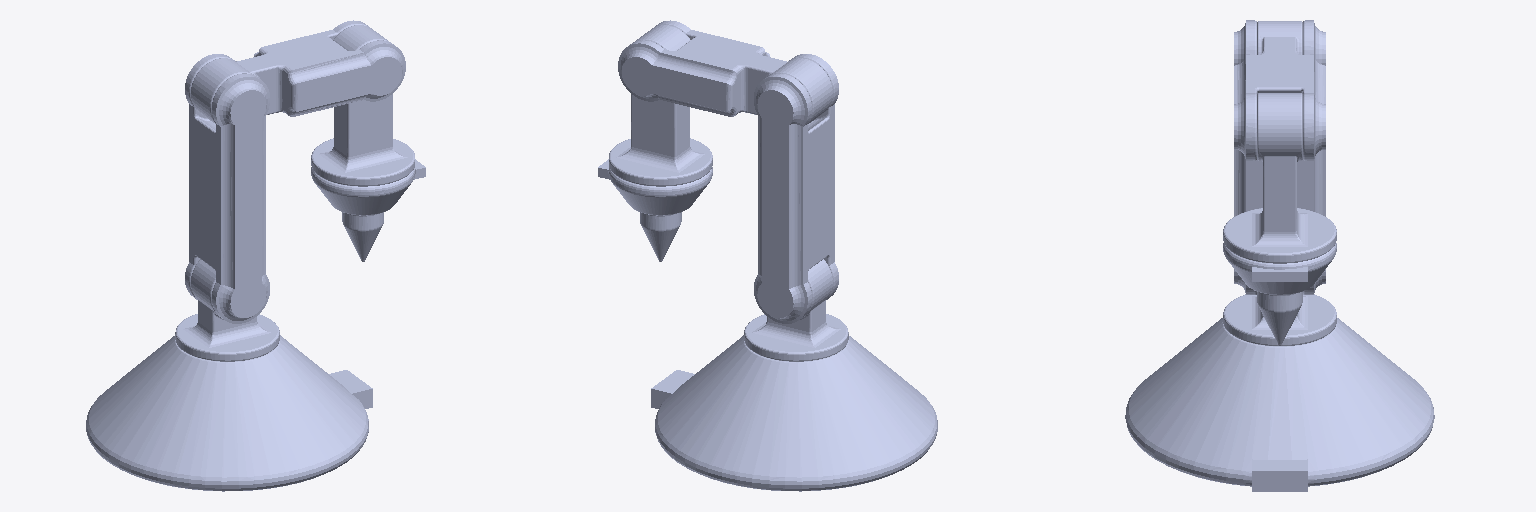
URDF robot description (robotic_arm):
<?xml version="1.0" encoding="utf-8"?>
<!-- This URDF was automatically created by SolidWorks to URDF Exporter! Originally created by [author] ([email redacted]) 
     Commit Version: 1.6.0-4-g7f85cfe  Build Version: 1.6.7995.38578
     For more information, please see http://wiki.ros.org/sw_urdf_exporter -->
<robot
  name="robotic_arm">
  <link
    name="base_link">
    <inertial>
      <origin
        xyz="0.00061888 -1.9568E-13 0.034312"
        rpy="0 0 0" />
      <mass
        value="3.2112" />
      <inertia
        ixx="0.012744"
        ixy="-4.897E-13"
        ixz="3.6048E-05"
        iyy="0.013016"
        iyz="1.7223E-12"
        izz="0.021902" />
    </inertial>
    <visual>
      <origin
        xyz="0 0 0"
        rpy="0 0 0" />
      <geometry>
        <mesh
          filename="package://robotic_arm/meshes/base_link.STL" />
      </geometry>
      <material
        name="">
        <color
          rgba="0.79216 0.81961 0.93333 1" />
      </material>
    </visual>
    <collision>
      <origin
        xyz="0 0 0"
        rpy="0 0 0" />
      <geometry>
        <mesh
          filename="package://robotic_arm/meshes/base_link.STL" />
      </geometry>
    </collision>
  </link>
  <link
    name="link_1">
    <inertial>
      <origin
        xyz="-4.7391E-09 -5.6065E-09 0.013415"
        rpy="0 0 0" />
      <mass
        value="0.30016" />
      <inertia
        ixx="0.00046088"
        ixy="-7.4477E-14"
        ixz="1.4091E-11"
        iyy="0.0004801"
        iyz="-1.2254E-11"
        izz="0.00017606" />
    </inertial>
    <visual>
      <origin
        xyz="0 0 0"
        rpy="0 0 0" />
      <geometry>
        <mesh
          filename="package://robotic_arm/meshes/link_1.STL" />
      </geometry>
      <material
        name="">
        <color
          rgba="0.79216 0.81961 0.93333 1" />
      </material>
    </visual>
    <collision>
      <origin
        xyz="0 0 0"
        rpy="0 0 0" />
      <geometry>
        <mesh
          filename="package://robotic_arm/meshes/link_1.STL" />
      </geometry>
    </collision>
  </link>
  <joint
    name="joint_1"
    type="revolute">
    <origin
      xyz="0 0 0.099414"
      rpy="0 0 0" />
    <parent
      link="base_link" />
    <child
      link="link_1" />
    <axis
      xyz="0 0 1" />
    <limit
      lower="0"
      upper="0"
      effort="0"
      velocity="0" />
  </joint>
  <link
    name="link_2">
    <inertial>
      <origin
        xyz="-2.7756E-17 -0.019261 0.1"
        rpy="0 0 0" />
      <mass
        value="0.76179" />
      <inertia
        ixx="0.0036986"
        ixy="-1.5693E-19"
        ixz="3.0224E-11"
        iyy="0.0034208"
        iyz="-7.9616E-20"
        izz="0.00055587" />
    </inertial>
    <visual>
      <origin
        xyz="0 0 0"
        rpy="0 0 0" />
      <geometry>
        <mesh
          filename="package://robotic_arm/meshes/link_2.STL" />
      </geometry>
      <material
        name="">
        <color
          rgba="0.79216 0.81961 0.93333 1" />
      </material>
    </visual>
    <collision>
      <origin
        xyz="0 0 0"
        rpy="0 0 0" />
      <geometry>
        <mesh
          filename="package://robotic_arm/meshes/link_2.STL" />
      </geometry>
    </collision>
  </link>
  <joint
    name="joint_2"
    type="revolute">
    <origin
      xyz="0 0.019261 0.060586"
      rpy="0 0 0" />
    <parent
      link="link_1" />
    <child
      link="link_2" />
    <axis
      xyz="0 1 0" />
    <limit
      lower="0"
      upper="0"
      effort="0"
      velocity="0" />
  </joint>
  <link
    name="link_3">
    <inertial>
      <origin
        xyz="0.082956 -0.022 -5.9351E-09"
        rpy="0 0 0" />
      <mass
        value="0.50081" />
      <inertia
        ixx="0.00032297"
        ixy="-1.9908E-10"
        ixz="-1.4119E-10"
        iyy="0.0014405"
        iyz="-2.8627E-10"
        izz="0.0015604" />
    </inertial>
    <visual>
      <origin
        xyz="0 0 0"
        rpy="0 0 0" />
      <geometry>
        <mesh
          filename="package://robotic_arm/meshes/link_3.STL" />
      </geometry>
      <material
        name="">
        <color
          rgba="0.79216 0.81961 0.93333 1" />
      </material>
    </visual>
    <collision>
      <origin
        xyz="0 0 0"
        rpy="0 0 0" />
      <geometry>
        <mesh
          filename="package://robotic_arm/meshes/link_3.STL" />
      </geometry>
    </collision>
  </link>
  <joint
    name="joint_3"
    type="revolute">
    <origin
      xyz="0 0.0027386 0.2"
      rpy="0 0 0" />
    <parent
      link="link_2" />
    <child
      link="link_3" />
    <axis
      xyz="0 -1 0" />
    <limit
      lower="0"
      upper="0"
      effort="0"
      velocity="0" />
  </joint>
  <link
    name="link_4">
    <inertial>
      <origin
        xyz="1.3976E-09 -0.018 -0.063995"
        rpy="0 0 0" />
      <mass
        value="0.31609" />
      <inertia
        ixx="0.00075553"
        ixy="5.6851E-11"
        ixz="-2.7632E-11"
        iyy="0.00078469"
        iyz="-1.2835E-11"
        izz="0.00017876" />
    </inertial>
    <visual>
      <origin
        xyz="0 0 0"
        rpy="0 0 0" />
      <geometry>
        <mesh
          filename="package://robotic_arm/meshes/link_4.STL" />
      </geometry>
      <material
        name="">
        <color
          rgba="0.79216 0.81961 0.93333 1" />
      </material>
    </visual>
    <collision>
      <origin
        xyz="0 0 0"
        rpy="0 0 0" />
      <geometry>
        <mesh
          filename="package://robotic_arm/meshes/link_4.STL" />
      </geometry>
    </collision>
  </link>
  <joint
    name="joint_4"
    type="revolute">
    <origin
      xyz="0.15 -0.004 0"
      rpy="0 0 0" />
    <parent
      link="link_3" />
    <child
      link="link_4" />
    <axis
      xyz="0 -1 0" />
    <limit
      lower="0"
      upper="0"
      effort="0"
      velocity="0" />
  </joint>
  <link
    name="link_5">
    <inertial>
      <origin
        xyz="0.00087674 1.849E-12 -0.023635"
        rpy="0 0 0" />
      <mass
        value="0.23974" />
      <inertia
        ixx="0.00020462"
        ixy="-1.8019E-14"
        ixz="-3.1896E-06"
        iyy="0.00021409"
        iyz="-4.2012E-15"
        izz="0.00023648" />
    </inertial>
    <visual>
      <origin
        xyz="0 0 0"
        rpy="0 0 0" />
      <geometry>
        <mesh
          filename="package://robotic_arm/meshes/link_5.STL" />
      </geometry>
      <material
        name="">
        <color
          rgba="0.79216 0.81961 0.93333 1" />
      </material>
    </visual>
    <collision>
      <origin
        xyz="0 0 0"
        rpy="0 0 0" />
      <geometry>
        <mesh
          filename="package://robotic_arm/meshes/link_5.STL" />
      </geometry>
    </collision>
  </link>
  <joint
    name="joint_5"
    type="revolute">
    <origin
      xyz="0 -0.018 -0.11186"
      rpy="0 0 0" />
    <parent
      link="link_4" />
    <child
      link="link_5" />
    <axis
      xyz="0 0 1" />
    <limit
      lower="0"
      upper="0"
      effort="0"
      velocity="0" />
  </joint>
</robot>

--- Facts derived from the render (not from the file) ---
Views: 3 orthographic renders of the robot side by side, from view 1: azimuth 30°, elevation 25°; view 2: azimuth 150°, elevation 25°; view 3: azimuth 270°, elevation 25°.
Robot: robotic_arm — 6 links, 5 joints (5 revolute); root link base_link; default pose: all joints at 0.
Links seen in each view (by area): view 1: base_link, link_2, link_3, link_4, link_1, link_5; view 2: base_link, link_2, link_3, link_4, link_1, link_5; view 3: base_link, link_4, link_3, link_2, link_5, link_1.
Boxes of the visible links, x1,y1,x2,y2 form: base_link: [86, 335, 372, 491]; link_2: [185, 54, 269, 323]; link_3: [191, 20, 405, 123]; link_4: [311, 25, 414, 186]; link_1: [175, 259, 279, 361]; link_5: [311, 159, 425, 261]; base_link: [651, 335, 937, 491]; link_2: [754, 54, 838, 323]; link_3: [618, 20, 832, 123]; link_4: [609, 25, 712, 186]; link_1: [744, 259, 848, 361]; link_5: [598, 159, 712, 261]; base_link: [1125, 318, 1434, 491]; link_4: [1223, 93, 1336, 263]; link_3: [1234, 21, 1325, 160]; link_2: [1234, 20, 1325, 294]; link_5: [1223, 243, 1336, 345]; link_1: [1223, 294, 1336, 345].
Size in the robot's own frame: 0.3408 by 0.2716 by 0.39 metres.
Meshes: 6 distinct files referenced, 6 mesh visuals loaded (6 binary STL).